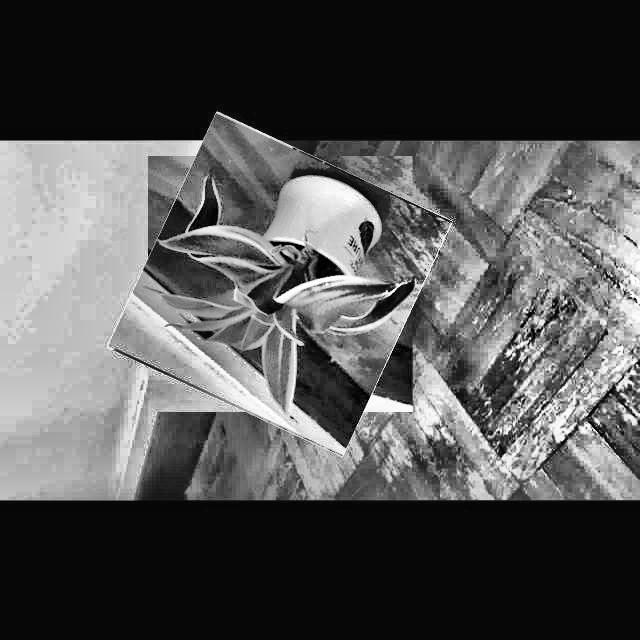plants: (128, 132, 432, 435)
